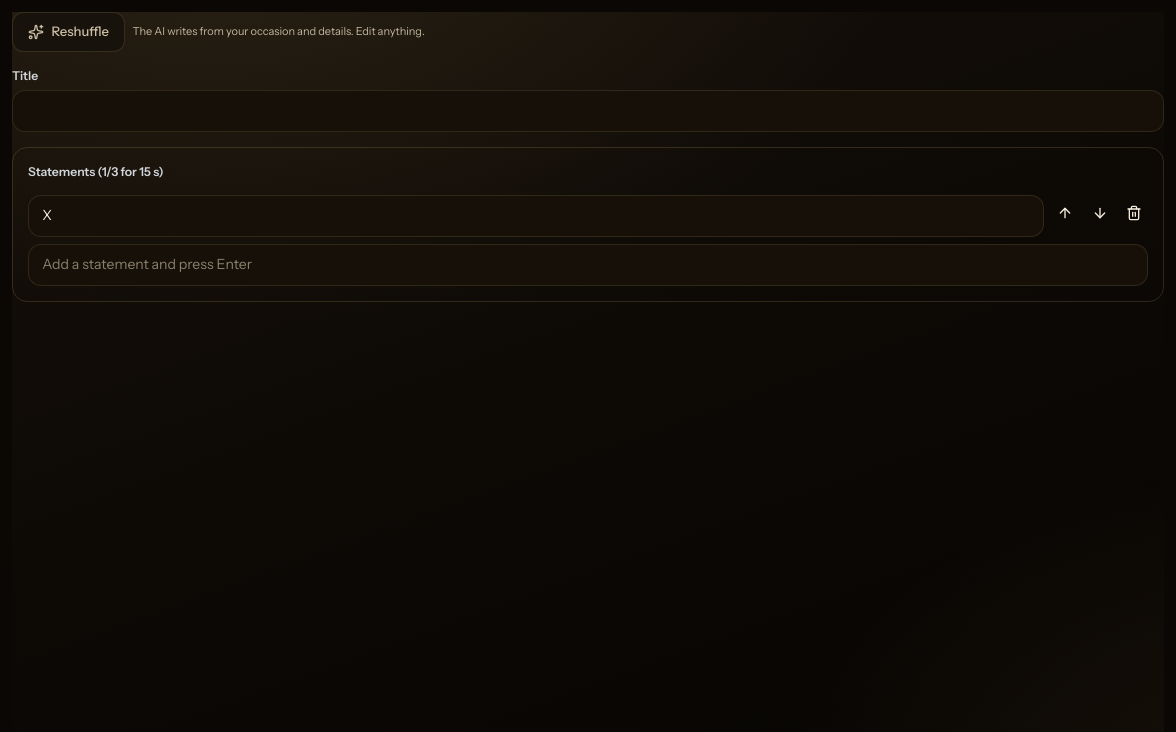
Scenario: MomentsWordsStep › Add verse at the length limit › is disabled with a hint when the statements already fill the current length
The image size is (1176, 732).
Step 1. Click the button "Reshuffle" → click(68, 32), box top-left (12, 12), bottom-right (125, 52)
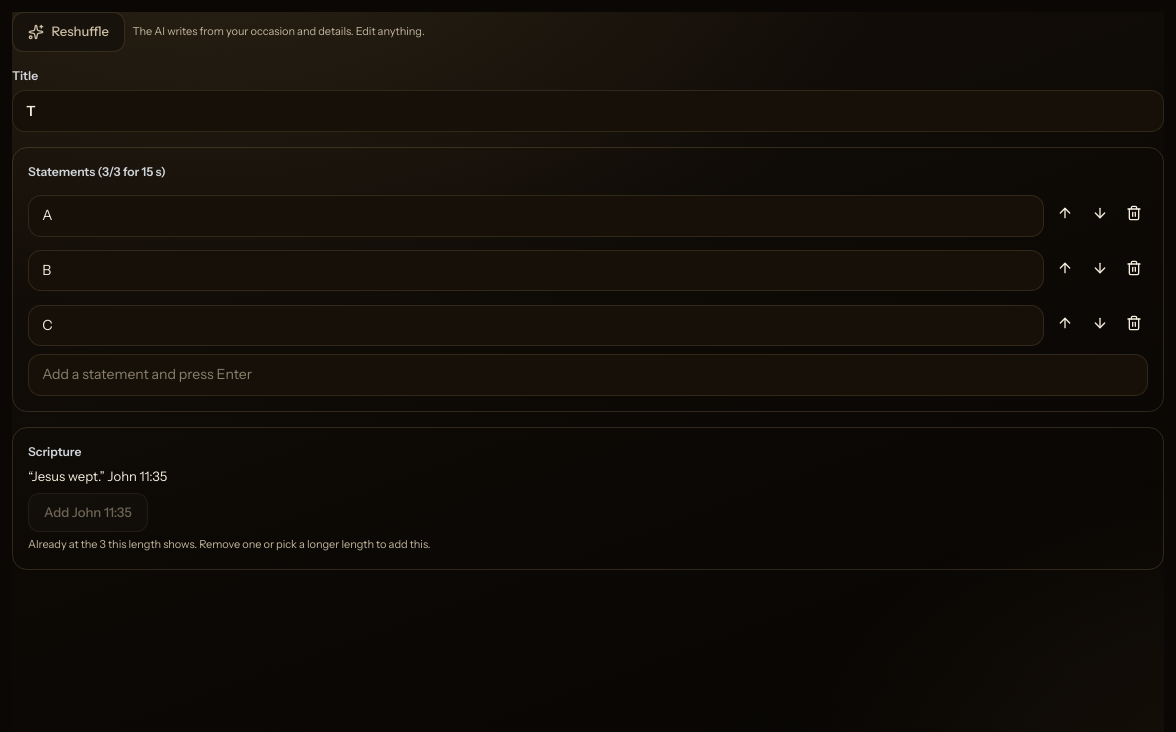
expect the button "Add John 11:35" is disabled: met, box top-left (28, 493), bottom-right (148, 532)
expect the text "Already at the 3 this length shows" is shown: met, box top-left (28, 537), bottom-right (431, 551)
